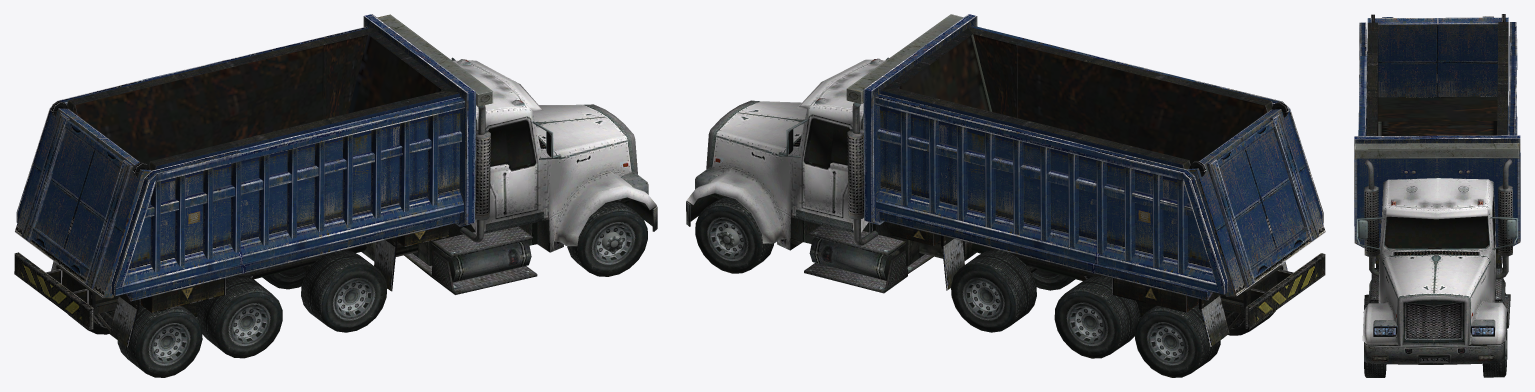
The model's file is Truck.FBX.
The picture shows the model from 3 angles, left to right: view 1: azimuth 30°, elevation 25°; view 2: azimuth 150°, elevation 25°; view 3: azimuth 270°, elevation 25°; orthographic projection. The views are drawn at different scales.
Visible parts, largest first — view 1: Truck; view 2: Truck; view 3: Truck.
Part boxes in pixels (x1,y1,x2,y2): Truck: (14, 14, 657, 377); Truck: (686, 14, 1325, 377); Truck: (1354, 14, 1520, 377).
Size of the model in its own units: 12.69 by 4.86 by 4.07.
